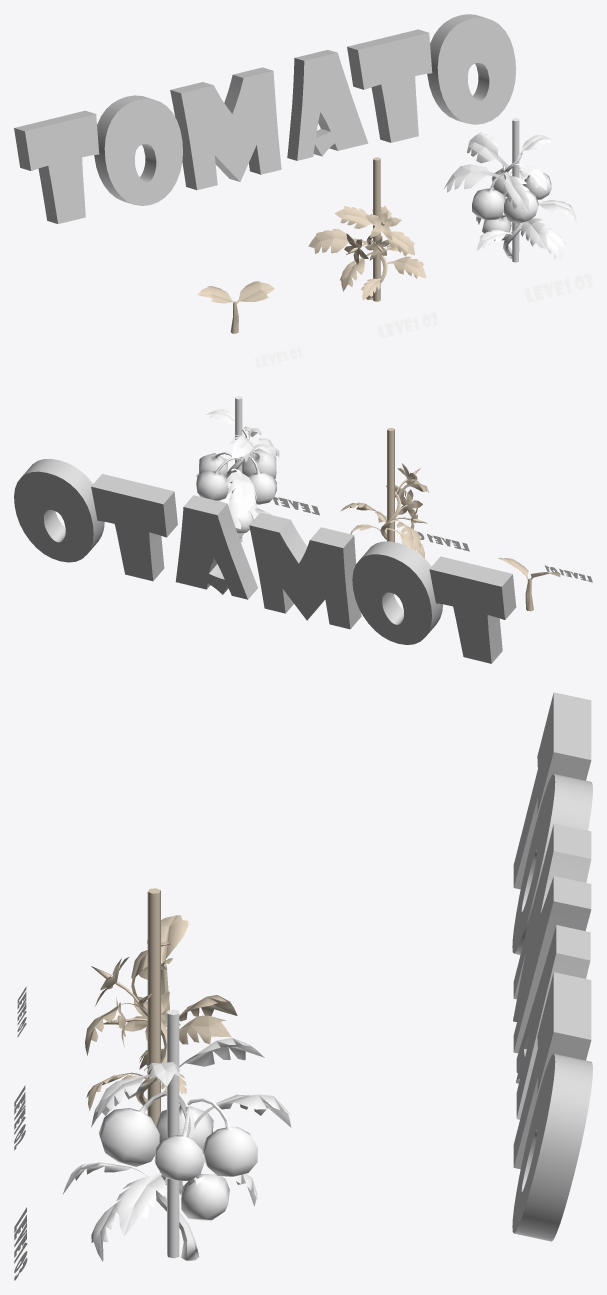
The model's file is free_pack_stylized_tomato.FBX.
The picture shows the model from 3 angles, top to bottom: view 1: azimuth 30°, elevation 25°; view 2: azimuth 150°, elevation 25°; view 3: azimuth 270°, elevation 25°; orthographic projection. The views are drawn at different scales.
Visible parts, largest first — view 1: free_pack_stylized_tomato; view 2: free_pack_stylized_tomato; view 3: free_pack_stylized_tomato.
Boxes of the visible parts, bbox=[...] form: free_pack_stylized_tomato: bbox=[14, 14, 592, 367]; free_pack_stylized_tomato: bbox=[14, 396, 592, 663]; free_pack_stylized_tomato: bbox=[14, 692, 592, 1280].
Size of what is drawn, in the model's own units: 171 by 102 by 48.81.
